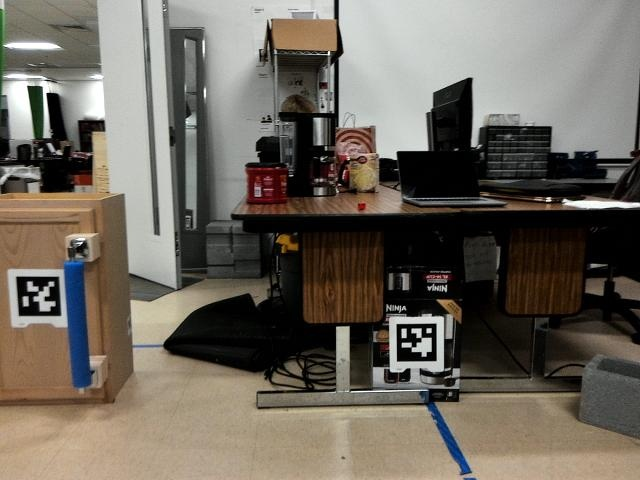noodle_handle: (61, 252, 95, 390)
